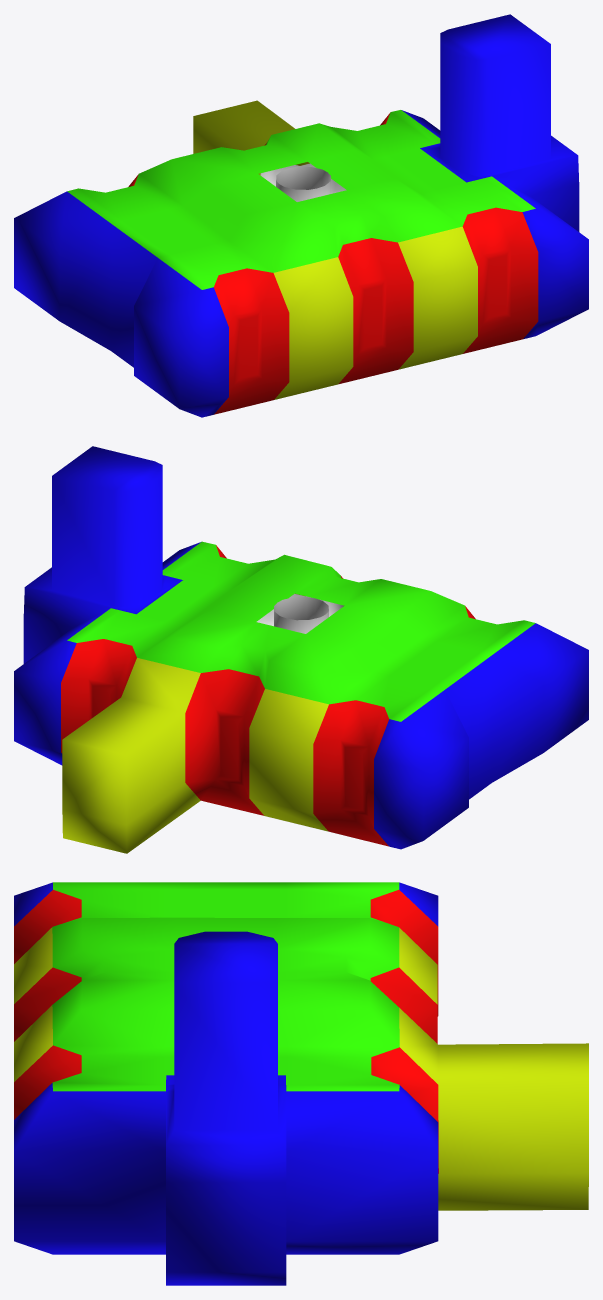
Rendered from prop_showroom.FBX.
3 renders of one model, top to bottom at view 1: azimuth 30°, elevation 25°; view 2: azimuth 150°, elevation 25°; view 3: azimuth 270°, elevation 25°, orthographic. The views are drawn at different scales.
Visible parts, largest first — view 1: prop_room, Object031; view 2: prop_room, Object031; view 3: prop_room.
Part boxes in pixels (x1,y1,x2,y2): prop_room: [14, 14, 588, 417]; Object031: [260, 163, 346, 201]; prop_room: [14, 446, 588, 853]; Object031: [256, 594, 344, 633]; prop_room: [14, 882, 588, 1285].
Bounding box in the file's own units: 20.13 × 10.16 × 17.04.
